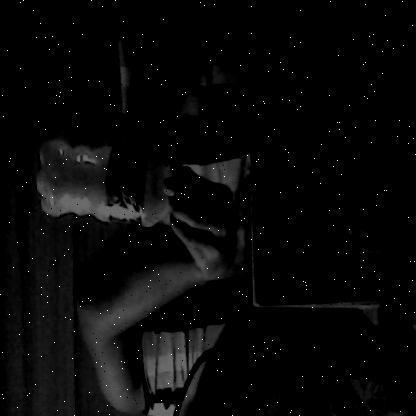Plastic Bottle: (30, 129, 194, 238)
